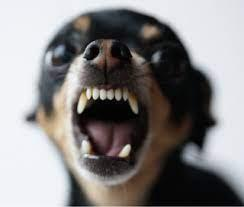Dog: (23, 10, 218, 186)
